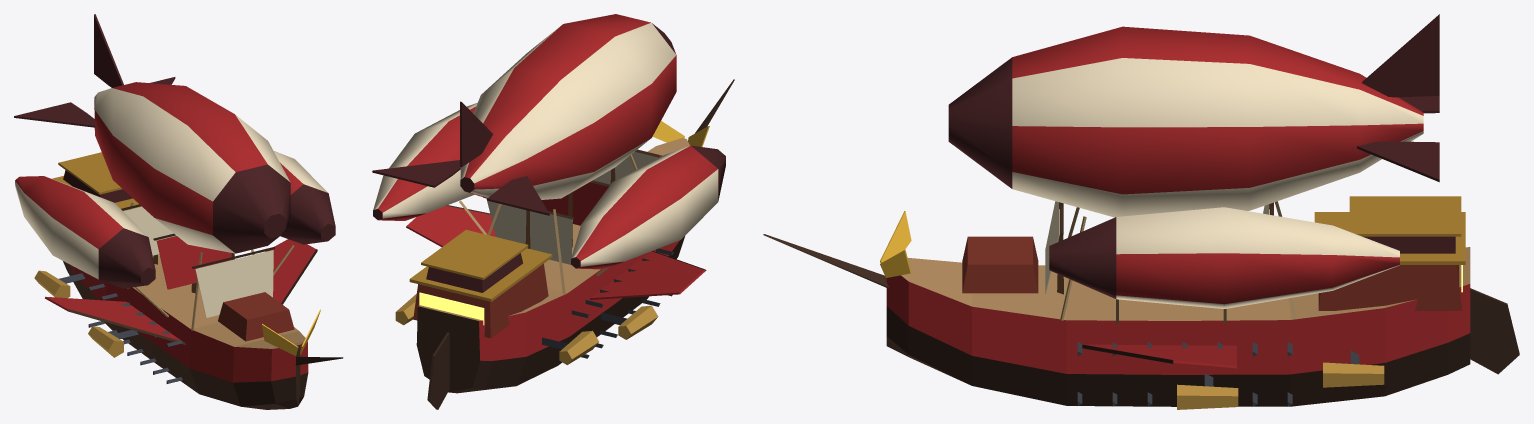
The model's file is SM_Ship_SovereignGale_LQ.glb.
3 renders of one model, left to right at view 1: azimuth 30°, elevation 25°; view 2: azimuth 150°, elevation 25°; view 3: azimuth 270°, elevation 25°, orthographic. The views are drawn at different scales.
Visible parts, largest first — view 1: SM_Ship_SovereignGale_LQ; view 2: SM_Ship_SovereignGale_LQ; view 3: SM_Ship_SovereignGale_LQ.
Boxes of the visible parts, x1,y1,x2,y2 form: SM_Ship_SovereignGale_LQ: (14,14,343,409); SM_Ship_SovereignGale_LQ: (372,14,734,409); SM_Ship_SovereignGale_LQ: (763,14,1519,409).
Size of the model in its own units: 25.56 by 27.6 by 49.23.
1 material, 1 textured.
